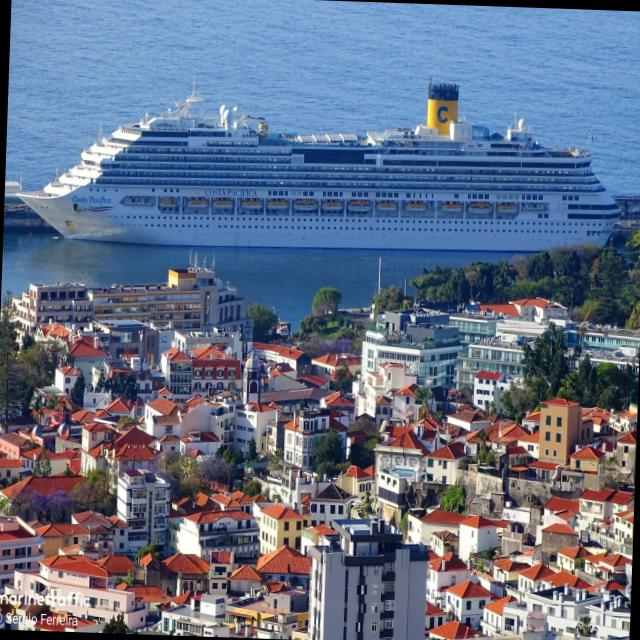Cruise: (19, 81, 619, 251)
